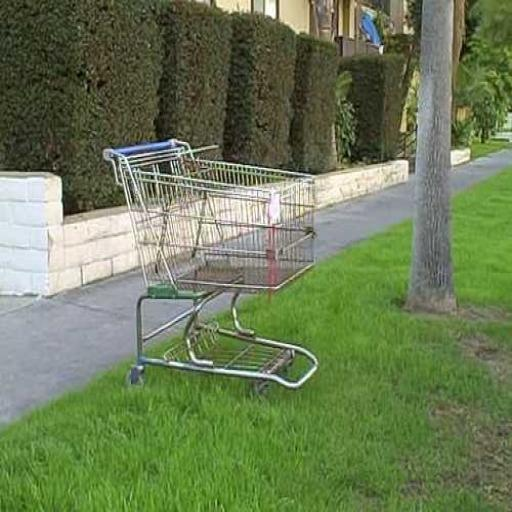shopping_cart: (100, 137, 318, 398)
